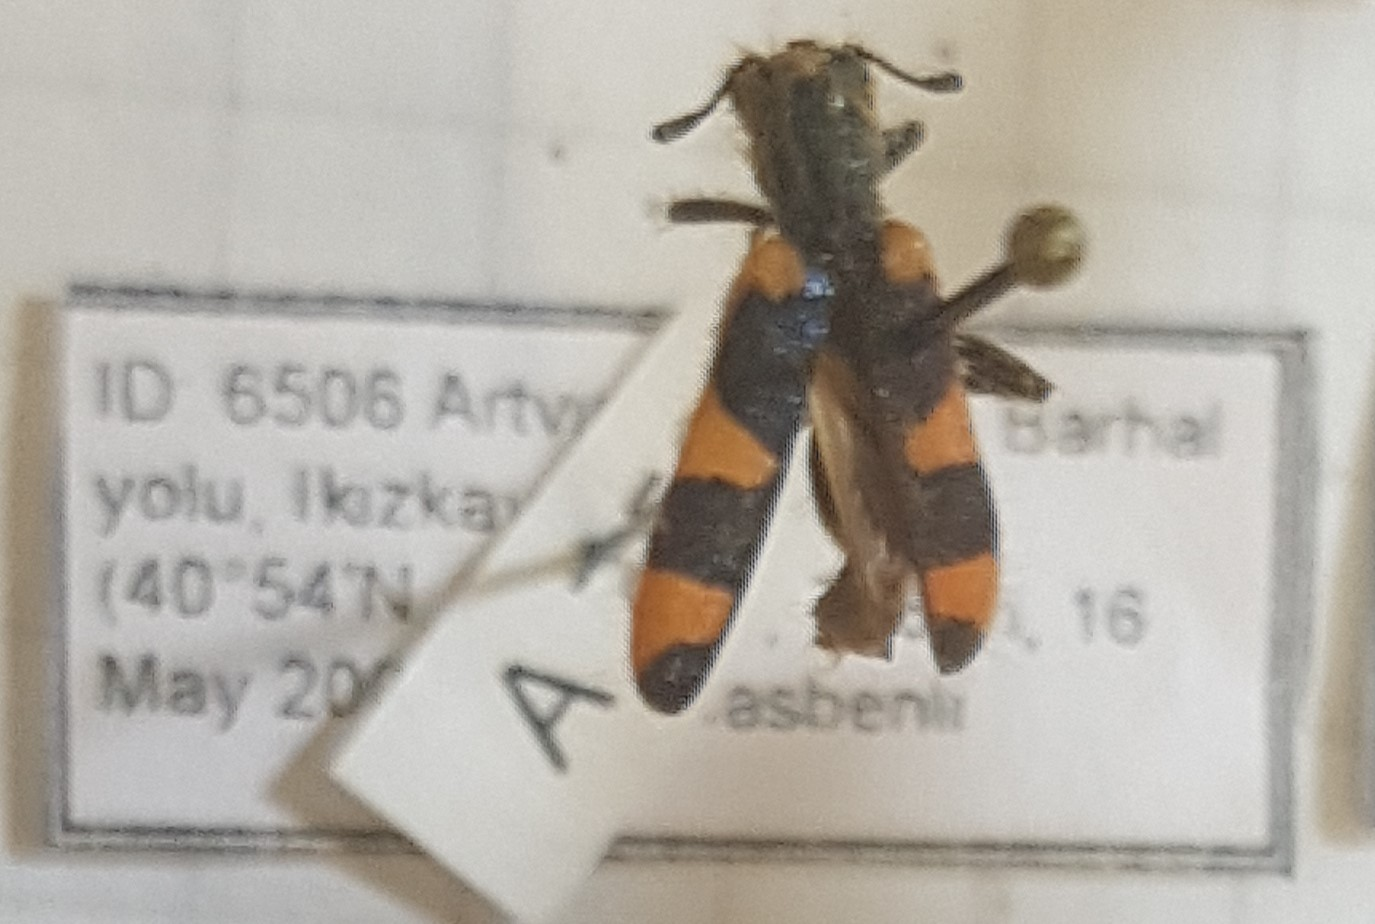trichodes_holtzi: (598, 16, 1028, 709)
